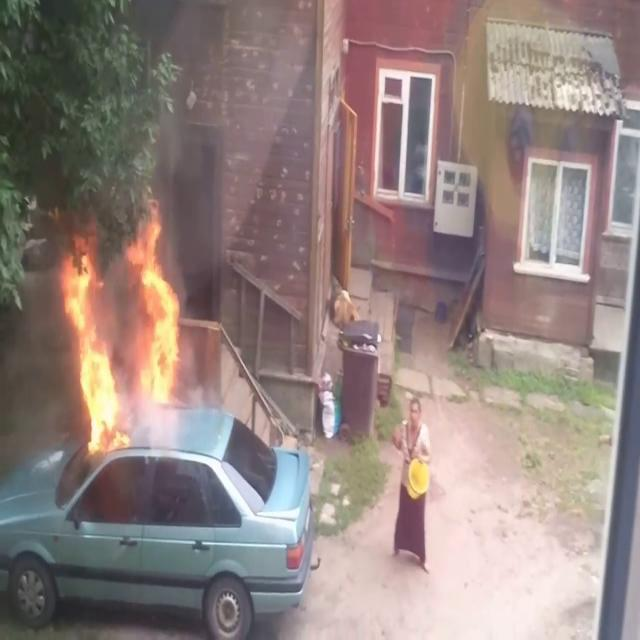Fire: (56, 206, 194, 454)
